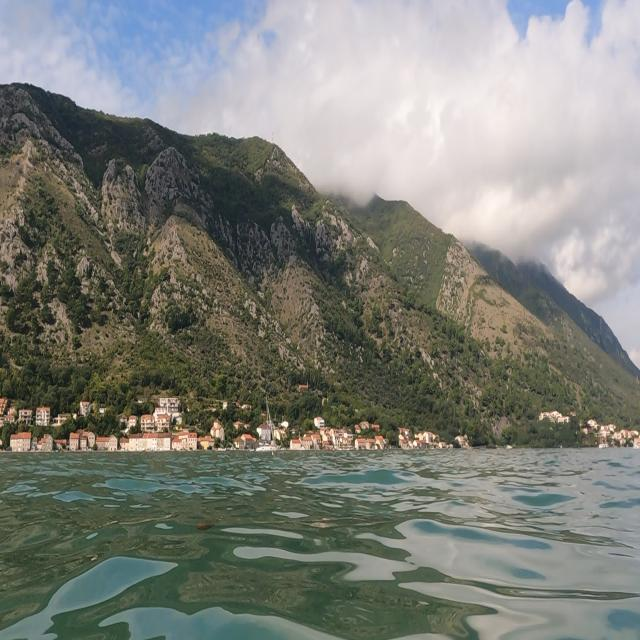boat: (254, 392, 279, 454)
